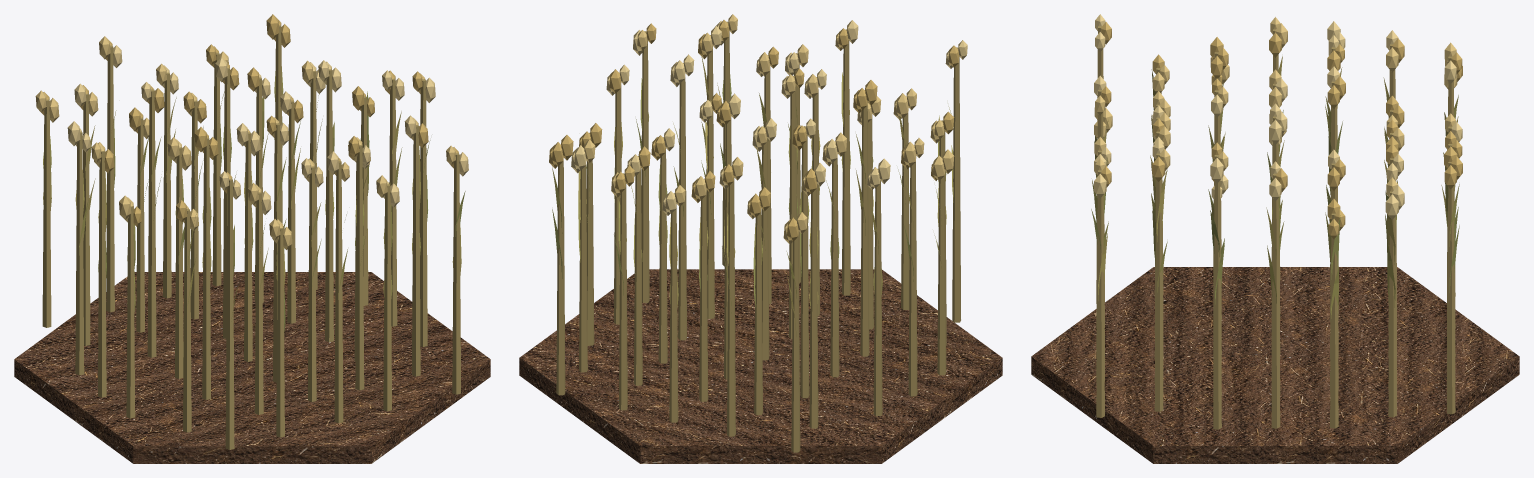
Rendered from wheat-tile-v02.glb.
3 views of the same model, side by side, from view 1: azimuth 30°, elevation 25°; view 2: azimuth 150°, elevation 25°; view 3: azimuth 270°, elevation 25° (orthographic). The views are drawn at different scales.
Parts seen in each view (by area): view 1: wheat-tile-hex-v01; view 2: wheat-tile-hex-v01; view 3: wheat-tile-hex-v01.
Boxes of the visible parts, box(x1,y1,x2,y2) form: wheat-tile-hex-v01: box(14, 14, 490, 463); wheat-tile-hex-v01: box(519, 14, 1002, 463); wheat-tile-hex-v01: box(1031, 14, 1519, 463).
Bounding box in the file's own units: 1.59 × 1.28 × 1.84.
8 materials, 1 textured.
